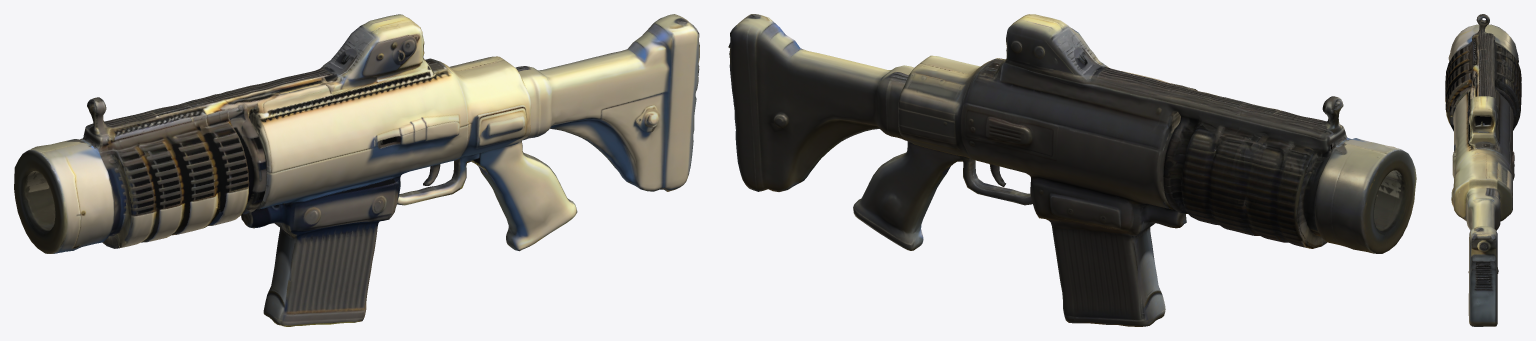
Rendered from launcher.fbx.
The picture shows the model from 3 angles, left to right: view 1: azimuth 30°, elevation 25°; view 2: azimuth 150°, elevation 25°; view 3: azimuth 270°, elevation 25°; orthographic projection. The views are drawn at different scales.
Parts seen in each view (by area): view 1: Mesh_0; view 2: Mesh_0; view 3: Mesh_0.
Part boxes in pixels (x1,y1,x2,y2): Mesh_0: (14,14,699,326); Mesh_0: (728,14,1416,326); Mesh_0: (1445,14,1521,326).
Size of the model in its own units: 200 by 83.6 by 32.75.
1 material, 1 textured.
